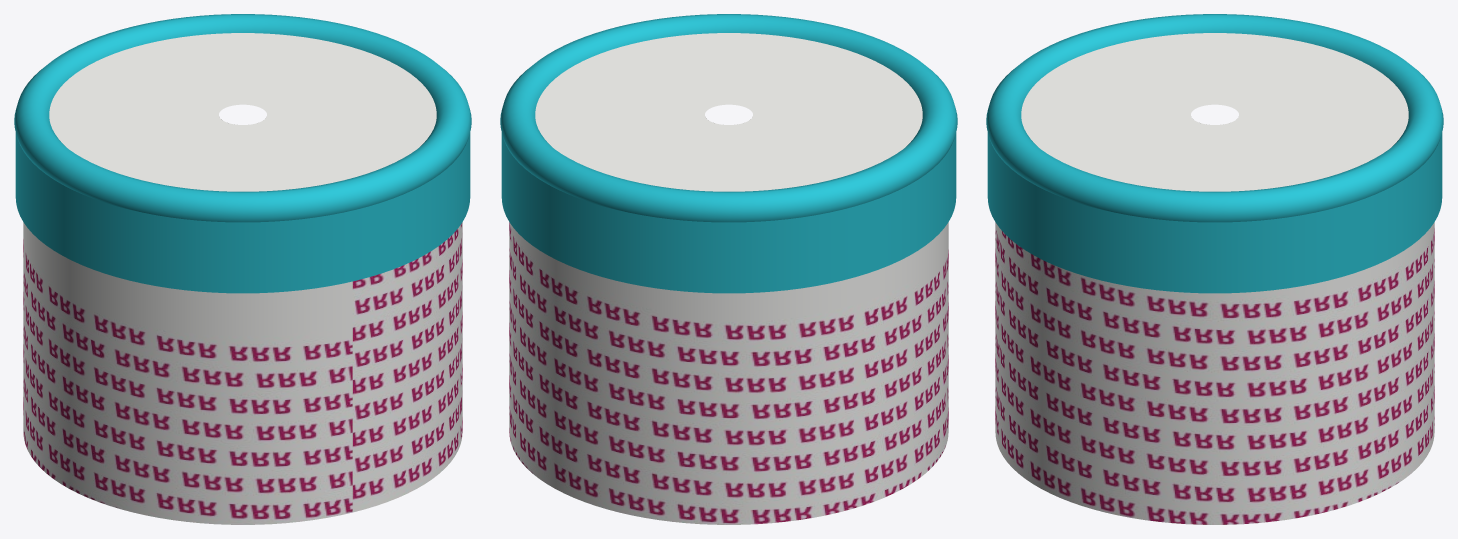
3 renders of one model, left to right at view 1: azimuth 30°, elevation 25°; view 2: azimuth 150°, elevation 25°; view 3: azimuth 270°, elevation 25°, orthographic.
Visible parts, largest first — view 1: D50-H114; view 2: D50-H114; view 3: D50-H114.
Boxes of the visible parts, x1,y1,x2,y2 form: D50-H114: [14, 14, 471, 524]; D50-H114: [500, 14, 957, 524]; D50-H114: [986, 14, 1443, 524].
Size of the model in its own units: 0.149 by 0.1177 by 0.149.
Materials: 6 (1 with a texture image).
